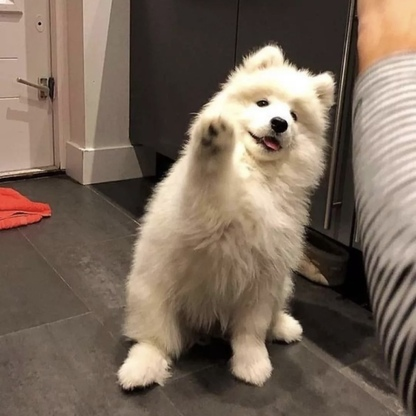samoyed: (110, 38, 343, 395)
